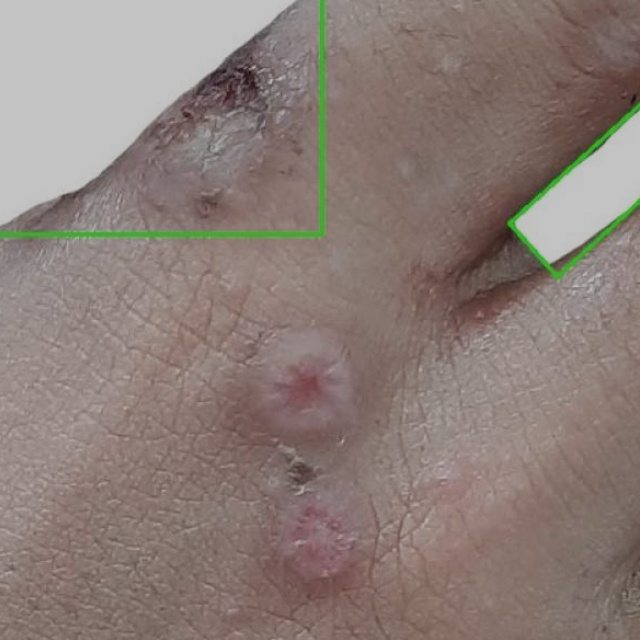Scabies: (0, 0, 322, 234), (503, 78, 639, 277)
